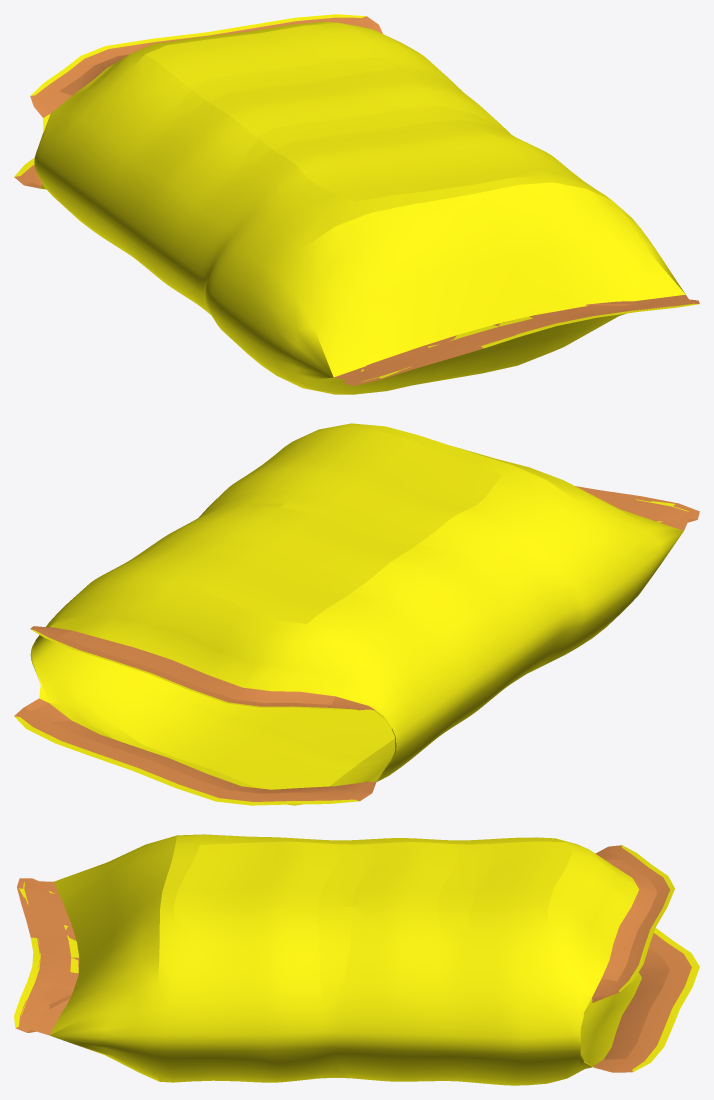
Rendered from  Saco de Salgadinho Aberto HIGHPOLY.fbx.
3 renders of one model, top to bottom at view 1: azimuth 30°, elevation 25°; view 2: azimuth 150°, elevation 25°; view 3: azimuth 270°, elevation 25°, orthographic. The views are drawn at different scales.
Parts seen in each view (by area): view 1: Cube.005; view 2: Cube.005; view 3: Cube.005.
Part boxes in pixels (<box>): Cube.005: <box>14,14,699,394</box>; Cube.005: <box>14,423,699,805</box>; Cube.005: <box>14,834,699,1085</box>.
Size of the model in its own units: 228 by 103 by 384.
